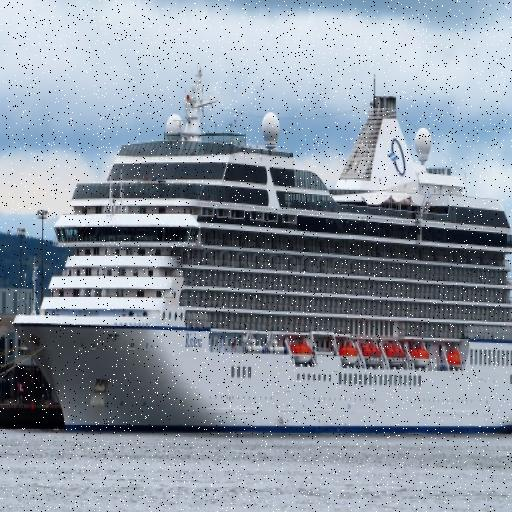cruises: (11, 66, 512, 443)
